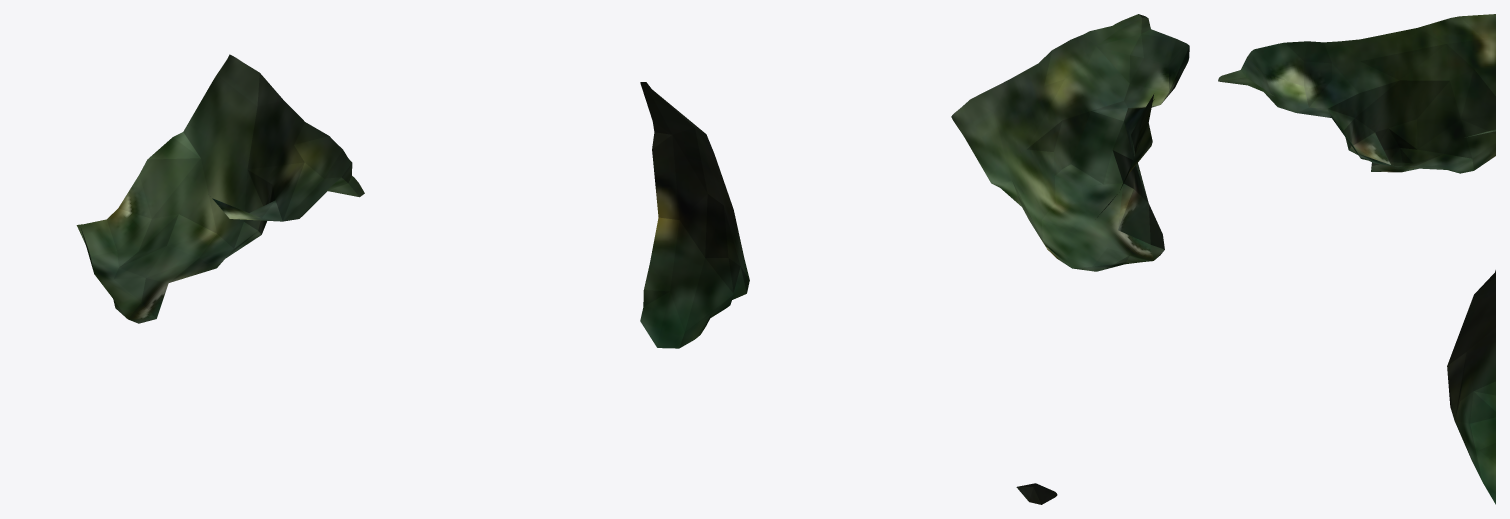
The picture shows the model from 3 angles, left to right: view 1: azimuth 30°, elevation 25°; view 2: azimuth 150°, elevation 25°; view 3: azimuth 270°, elevation 25°; orthographic projection. The views are drawn at different scales.
Bounding box in the file's own units: 0.8018 × 0.5653 × 0.4249.
1 material, 1 textured.
